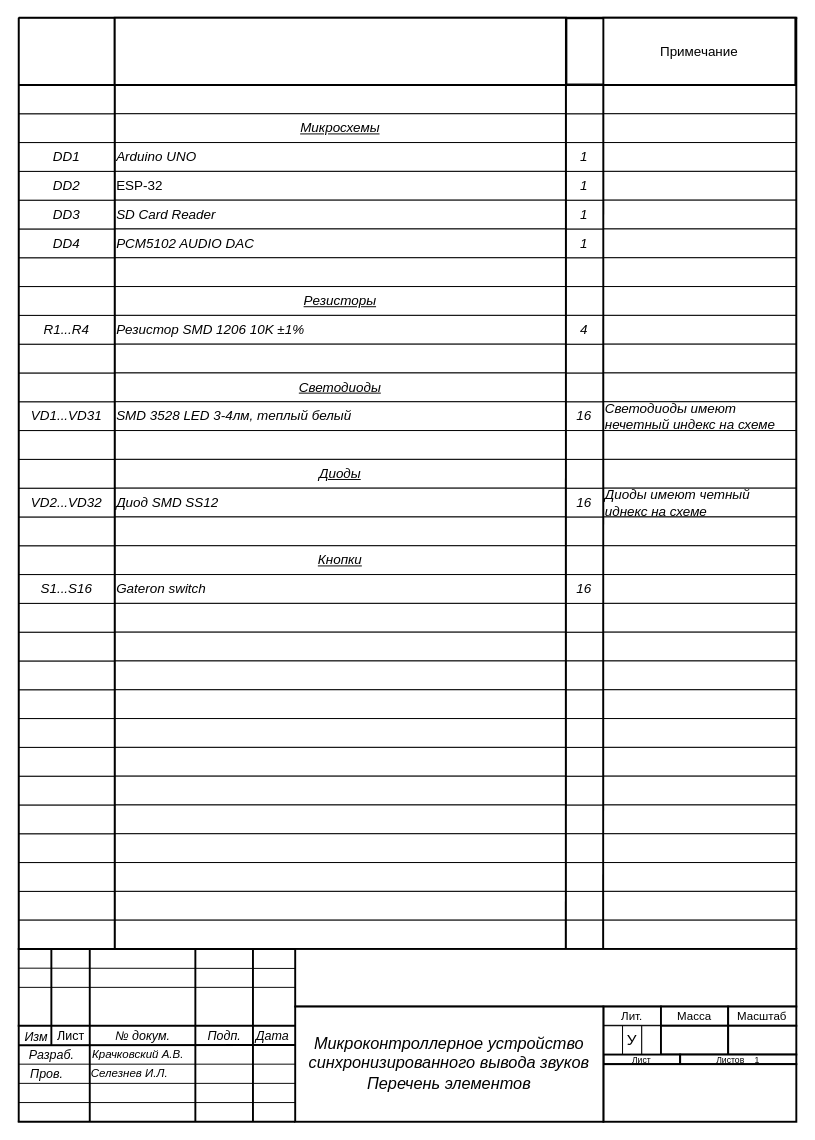
This 815x1140 diagram has some shape labels left out. The shapes that lost their labels are listed below. From the top down, each one's centre as x and y in pixels, then its label:
the point at 66,51: Обознач.
the point at 339,50: Наименование
the point at 586,51: Кол.
the point at 545,977: ГУИР.400201.213 ПЭ3
the point at 699,1092: ЭВМ, гр 050502
